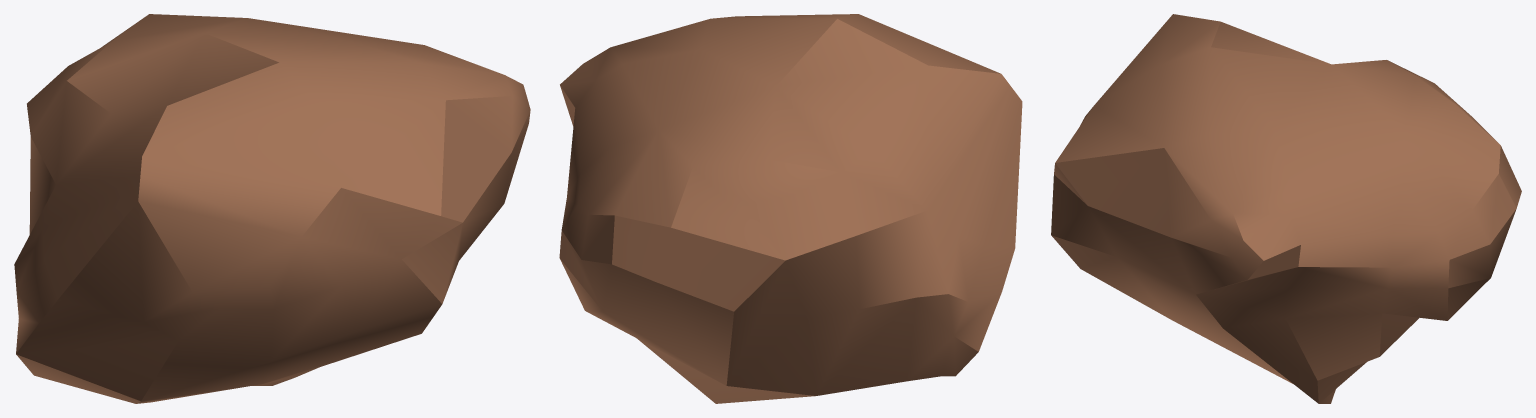
Rendered from rock_medium_5.fbx.
The picture shows the model from 3 angles, left to right: view 1: azimuth 30°, elevation 25°; view 2: azimuth 150°, elevation 25°; view 3: azimuth 270°, elevation 25°; orthographic projection. The views are drawn at different scales.
Visible parts, largest first — view 1: Retopo_Rock generator addon.017; view 2: Retopo_Rock generator addon.017; view 3: Retopo_Rock generator addon.017.
Part boxes in pixels (bbox=[...]): Retopo_Rock generator addon.017: bbox=[14, 14, 530, 403]; Retopo_Rock generator addon.017: bbox=[559, 14, 1022, 403]; Retopo_Rock generator addon.017: bbox=[1051, 14, 1521, 403].
Bounding box in the file's own units: 54.52 × 41.71 × 53.88.
